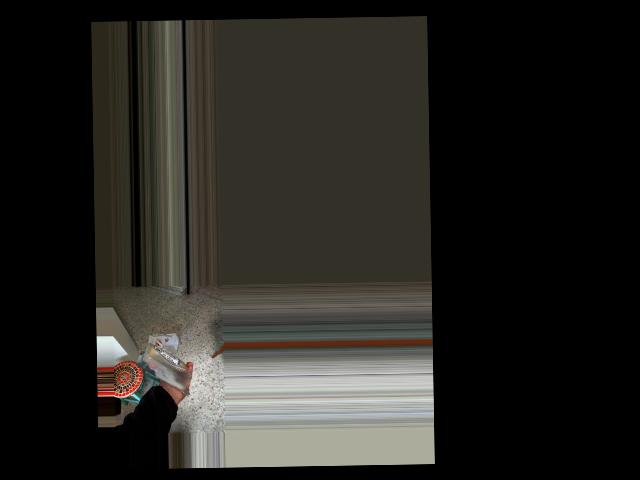cheese: (120, 327, 197, 400)
